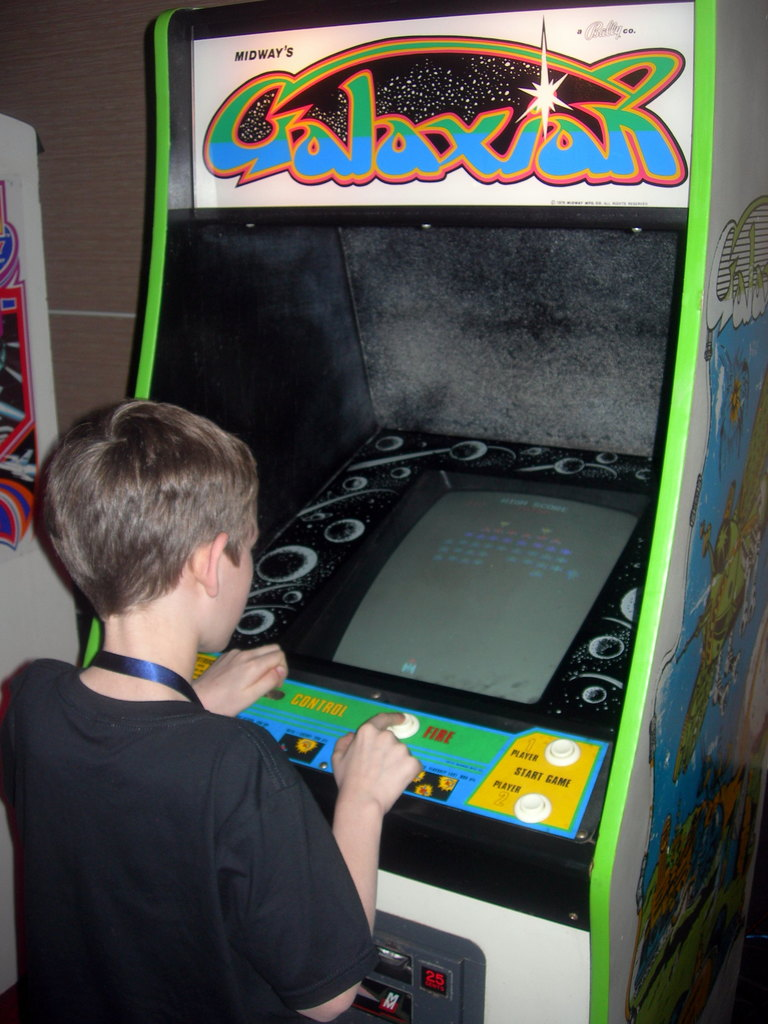Person: (2, 396, 426, 1021)
